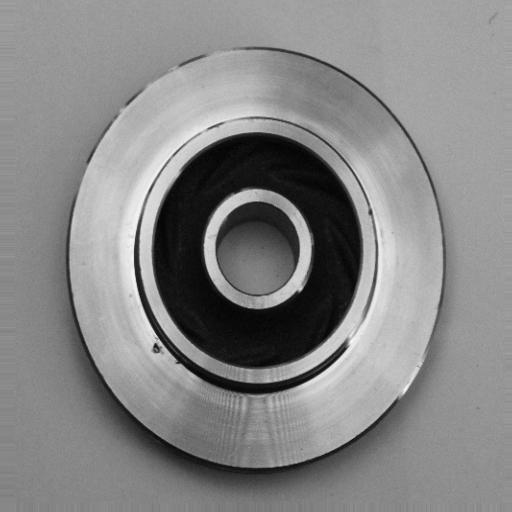crack: (138, 329, 195, 374)
scratch: (339, 309, 379, 354)
unpolished_casting: (62, 43, 448, 471)
